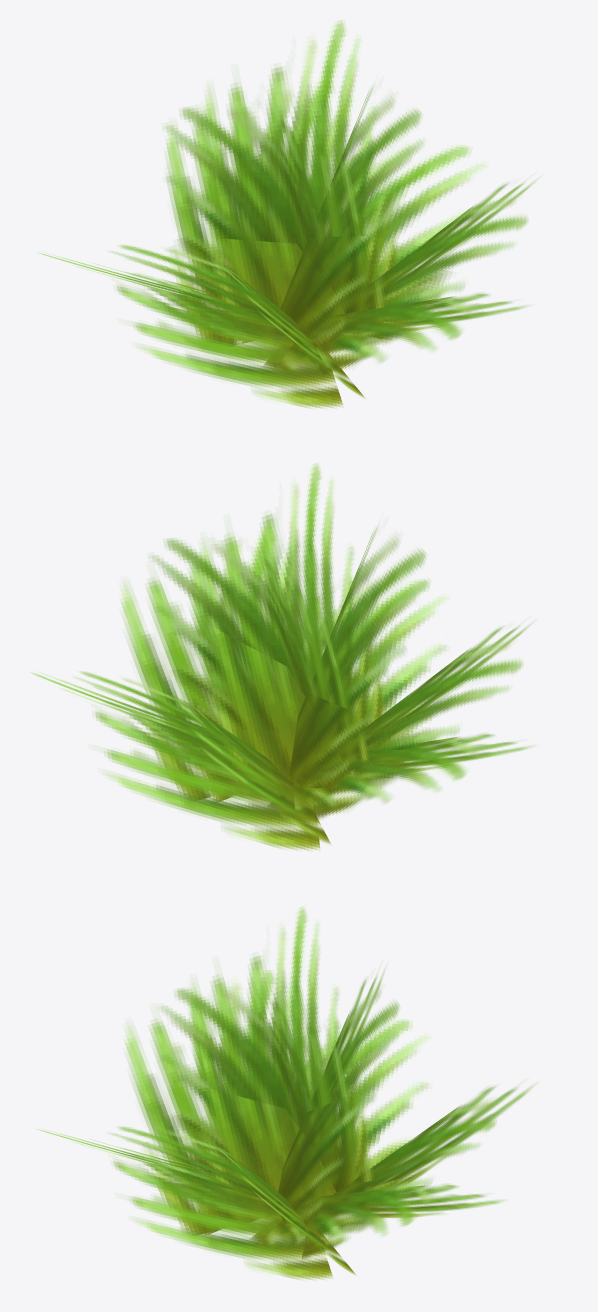
3 views of the same model, one above another, from view 1: azimuth 30°, elevation 25°; view 2: azimuth 150°, elevation 25°; view 3: azimuth 270°, elevation 25° (orthographic). The views are drawn at different scales.
Parts seen in each view (by area): view 1: grass; view 2: grass; view 3: grass.
Part boxes in pixels (<box>): grass: <box>39,20,537,408</box>; grass: <box>32,463,531,850</box>; grass: <box>38,907,533,1279</box>.
Size of the model in its own units: 129 by 79.15 by 135.
Materials: 1 (1 with a texture image).
